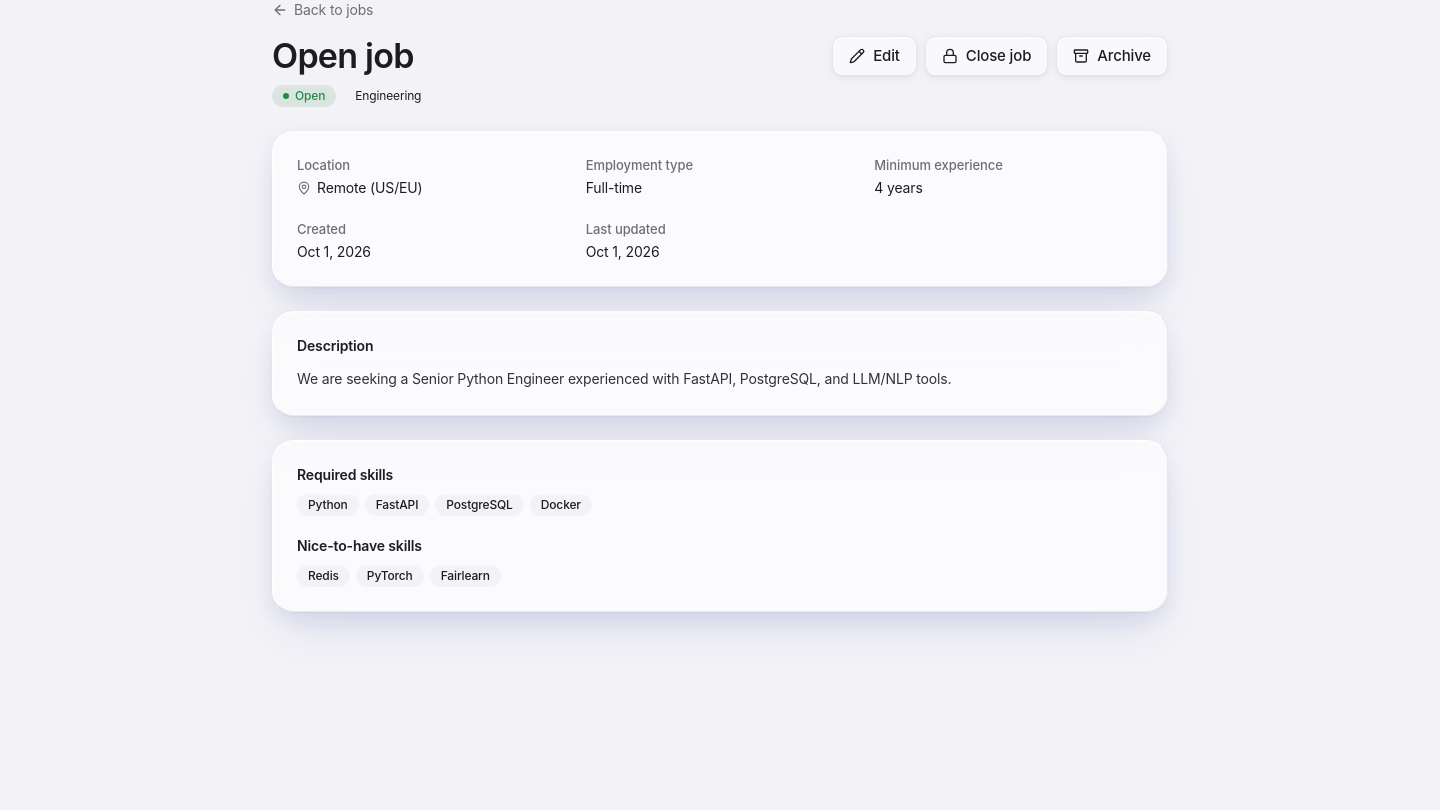
Test case: JobDetail › asks for confirmation before closing, focusing Cancel first
What coordinates should you click on to do the following:
click the button "Close job"
I would click on:
 (987, 56)
Its box is [925,36,1048,76].
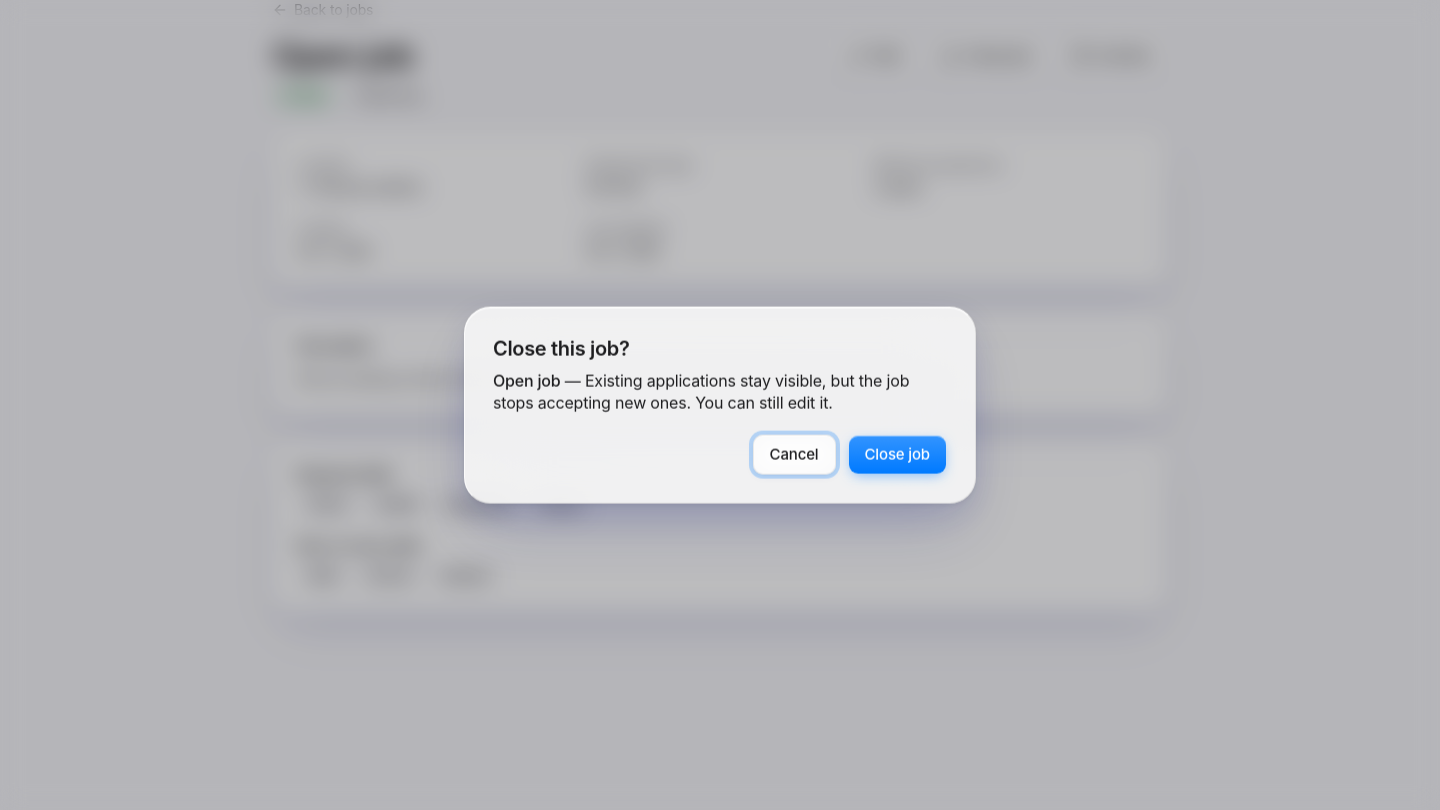
Now the dialog shows "Close this job?", box [493,337,630,361]
What coordinates should you click on to do the following:
click the button "Close job"
I would click on:
 (897, 454)
Its box is [848,434,947,474].
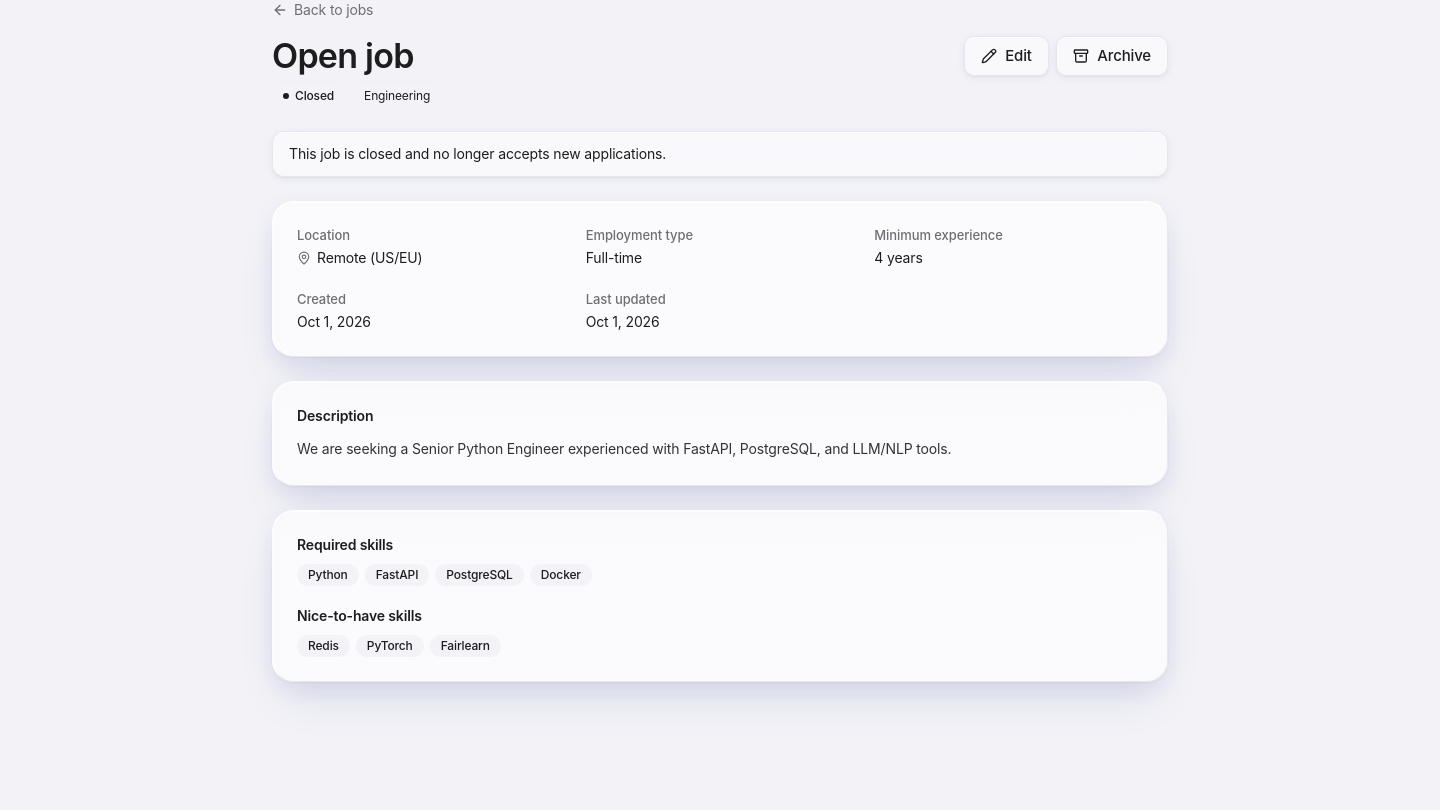
Now the text "This job is closed and no longer accepts new applications." is shown, box [272,131,1168,177]
